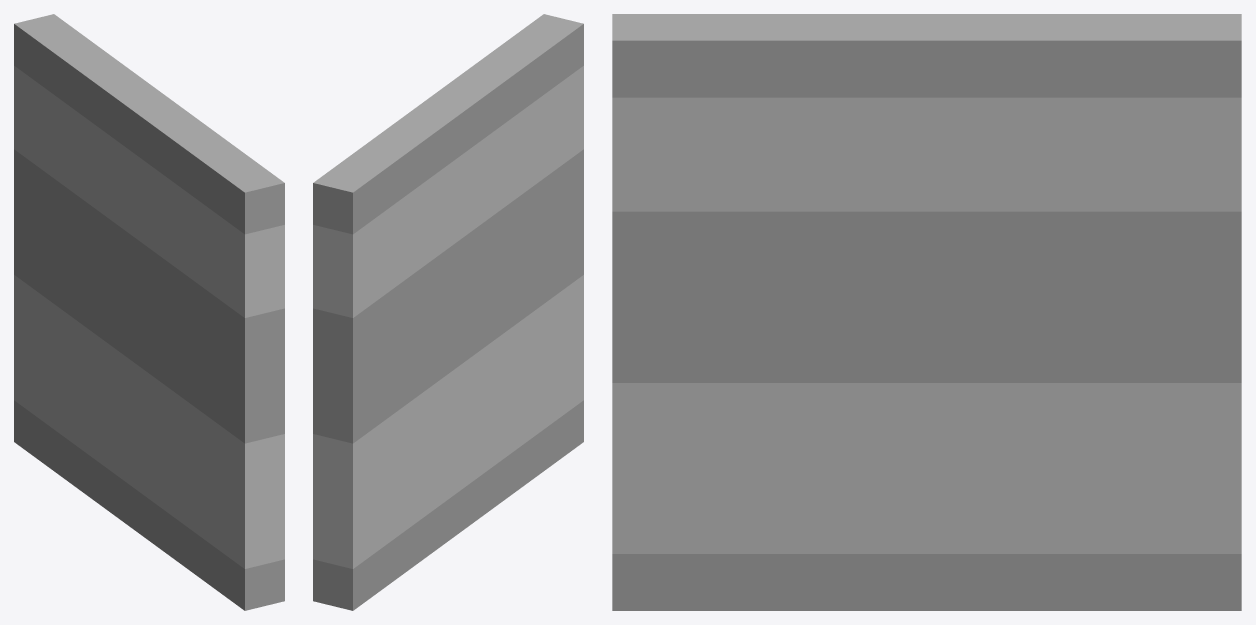
The model's file is dirt_wall_A_10.obj.
3 renders of one model, left to right at view 1: azimuth 30°, elevation 25°; view 2: azimuth 150°, elevation 25°; view 3: azimuth 270°, elevation 25°, orthographic. The views are drawn at different scales.
Size of the model in its own units: 0.1 by 1 by 1.
Materials: 1 (1 with a texture image).
